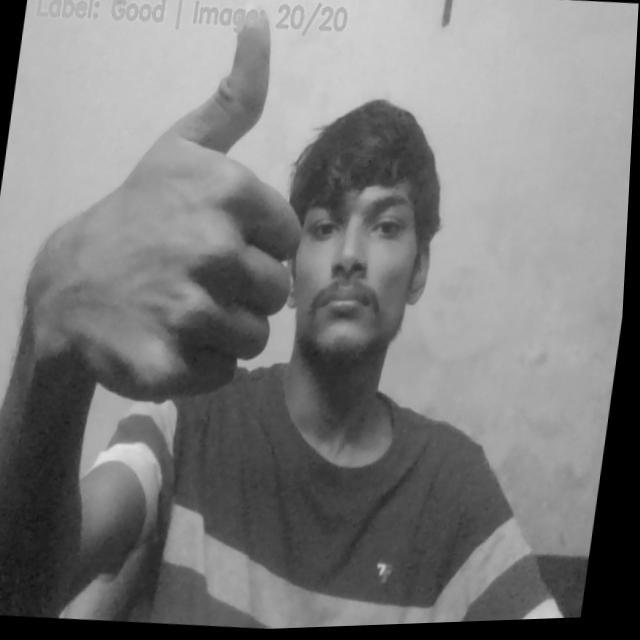Good: (26, 0, 333, 415)
